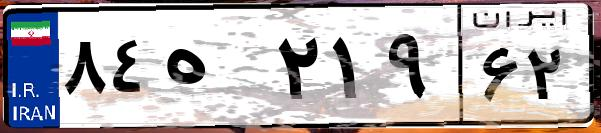1: (330, 28, 385, 110)
2: (270, 28, 330, 110), (525, 38, 570, 115)
4: (110, 28, 158, 98)
6: (475, 38, 525, 113)
8: (57, 26, 110, 100)
9: (385, 28, 445, 110)
ه: (158, 20, 270, 120)
